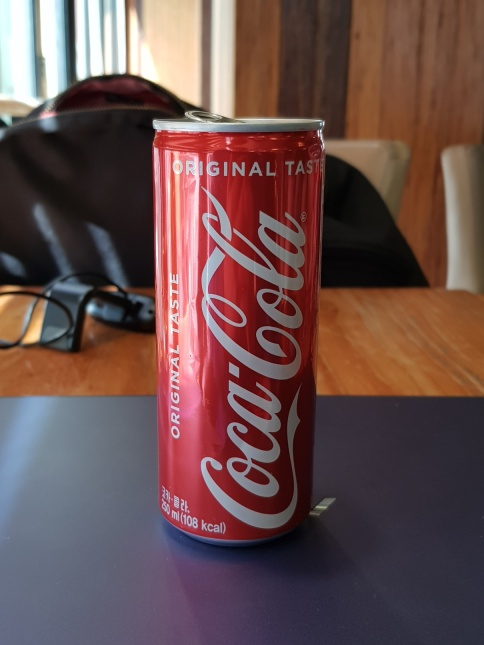Can: (145, 105, 326, 553)
